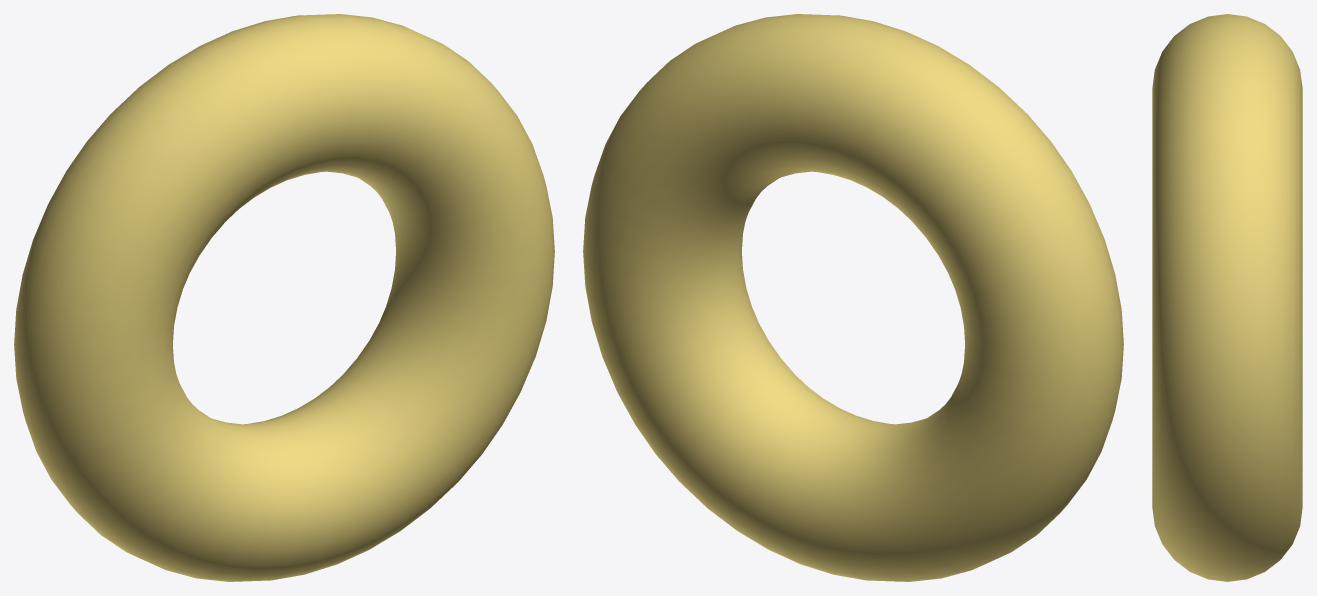
File: placeholder_collier.glb
3 views of the same model, side by side, from view 1: azimuth 30°, elevation 25°; view 2: azimuth 150°, elevation 25°; view 3: azimuth 270°, elevation 25° (orthographic). The views are drawn at different scales.
Visible parts, largest first — view 1: placeholder; view 2: placeholder; view 3: placeholder.
Boxes of the visible parts, x1=… form: placeholder: x1=14, y1=14, x2=554, y2=581; placeholder: x1=583, y1=14, x2=1123, y2=581; placeholder: x1=1152, y1=14, x2=1302, y2=581.
Bounding box in the file's own units: 1.36 × 1.36 × 0.36.
